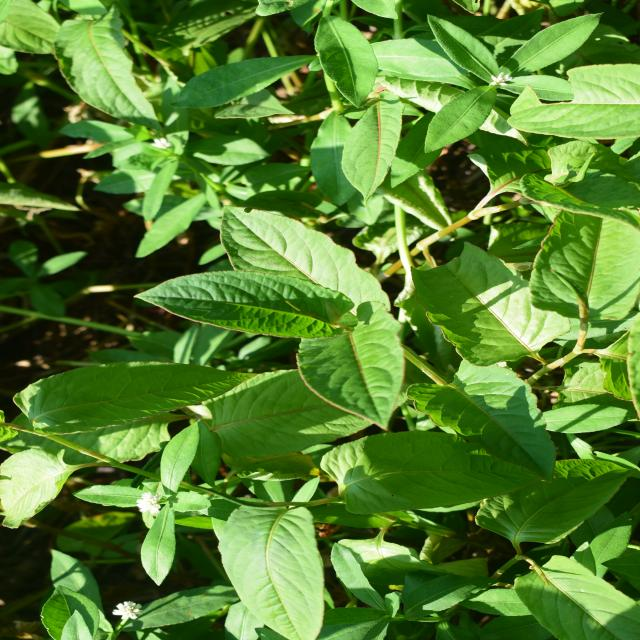Chinese_knotweed: (197, 174, 441, 426), (11, 204, 202, 514)
